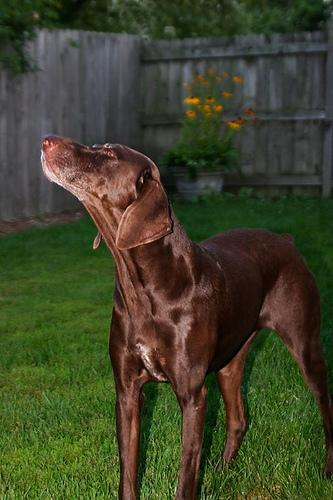dog-german_shorthaired: (40, 135, 172, 248)
